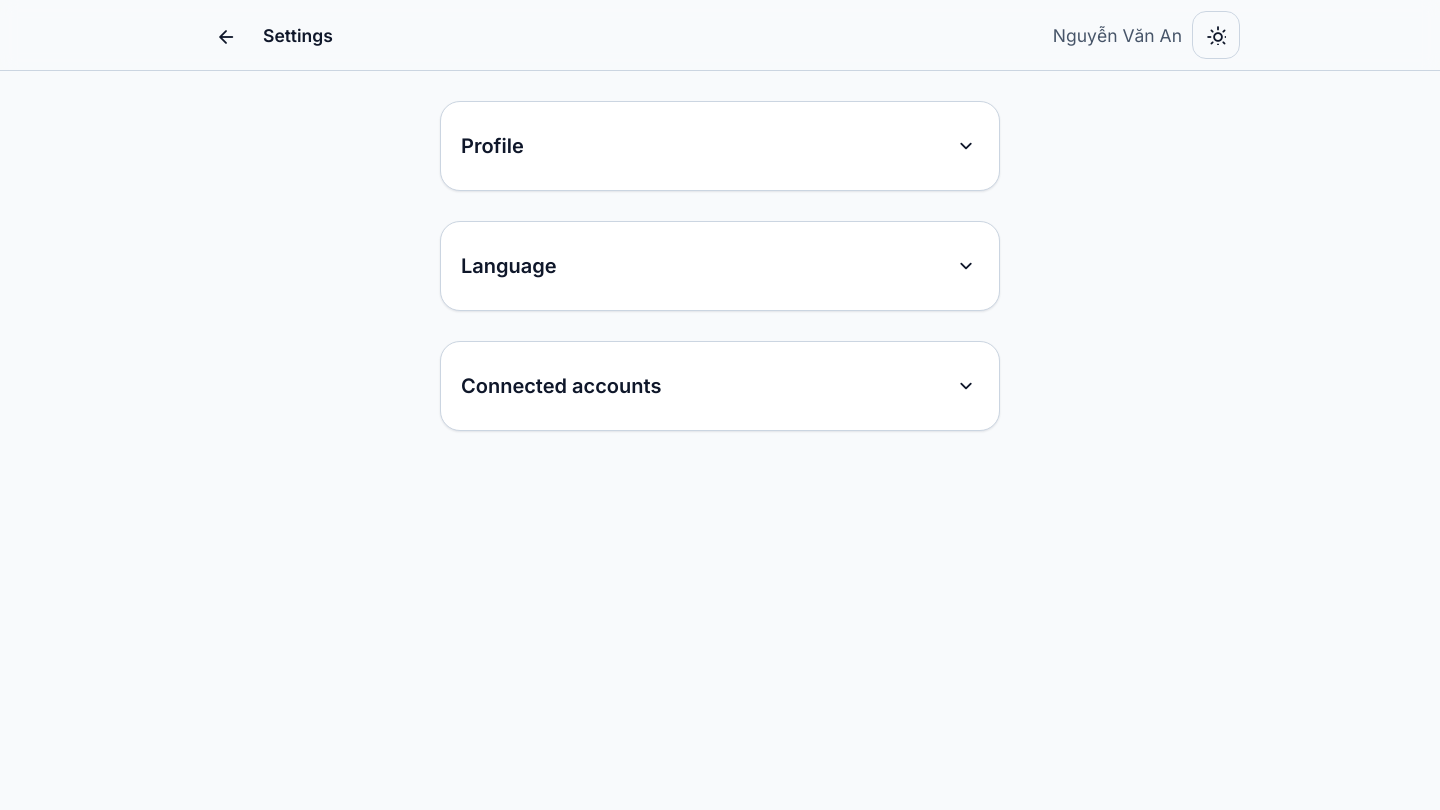
Test: SettingsPage sections › offers shared profile and Google settings without an active membership
Click the button with aria-label "Profile settings" at [492, 146], box [461,122,979,170]
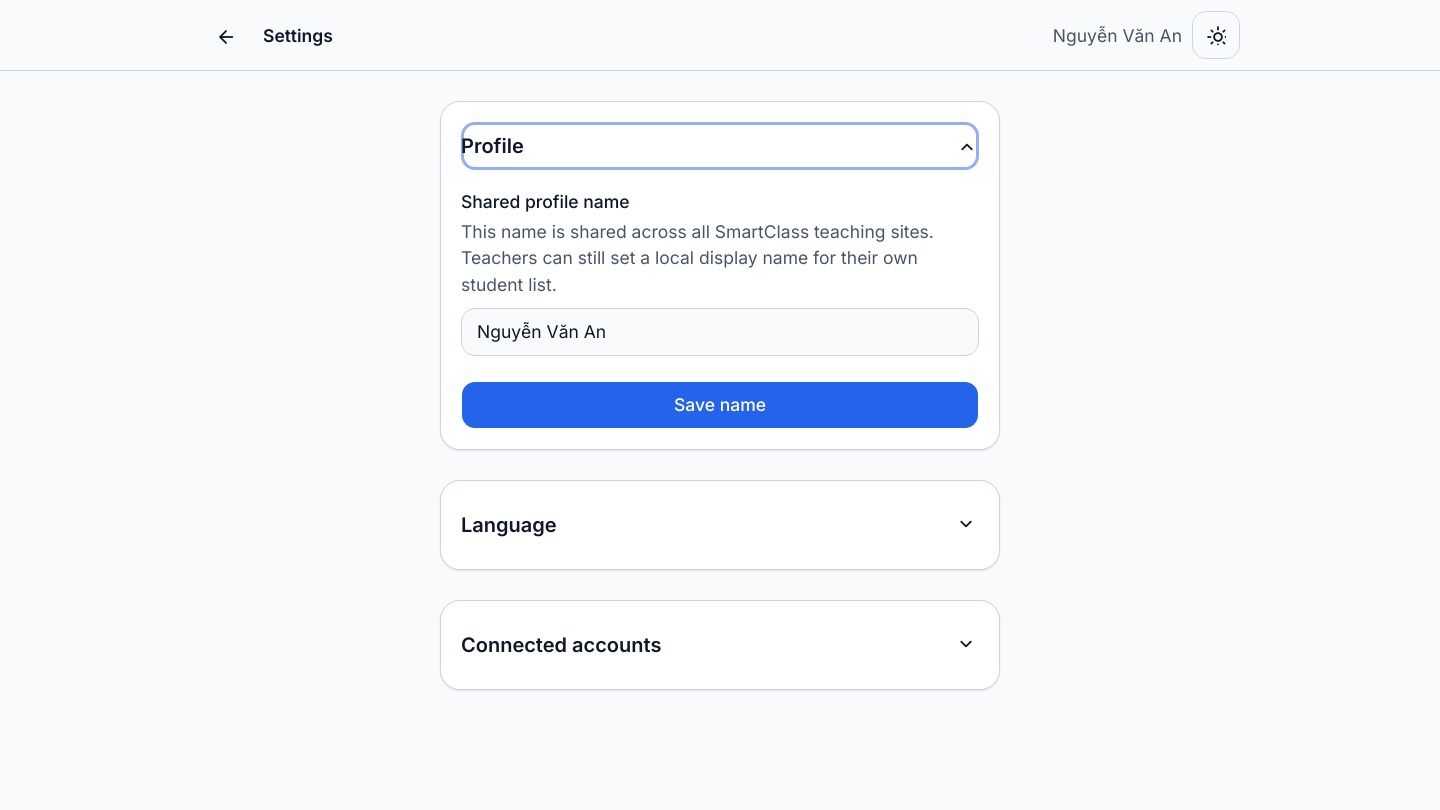
Check: the field labelled "Shared profile name" is shown, box [461,308,979,356]
Click the button with aria-label "Connected accounts settings" at [561, 645], box [461,621,979,669]
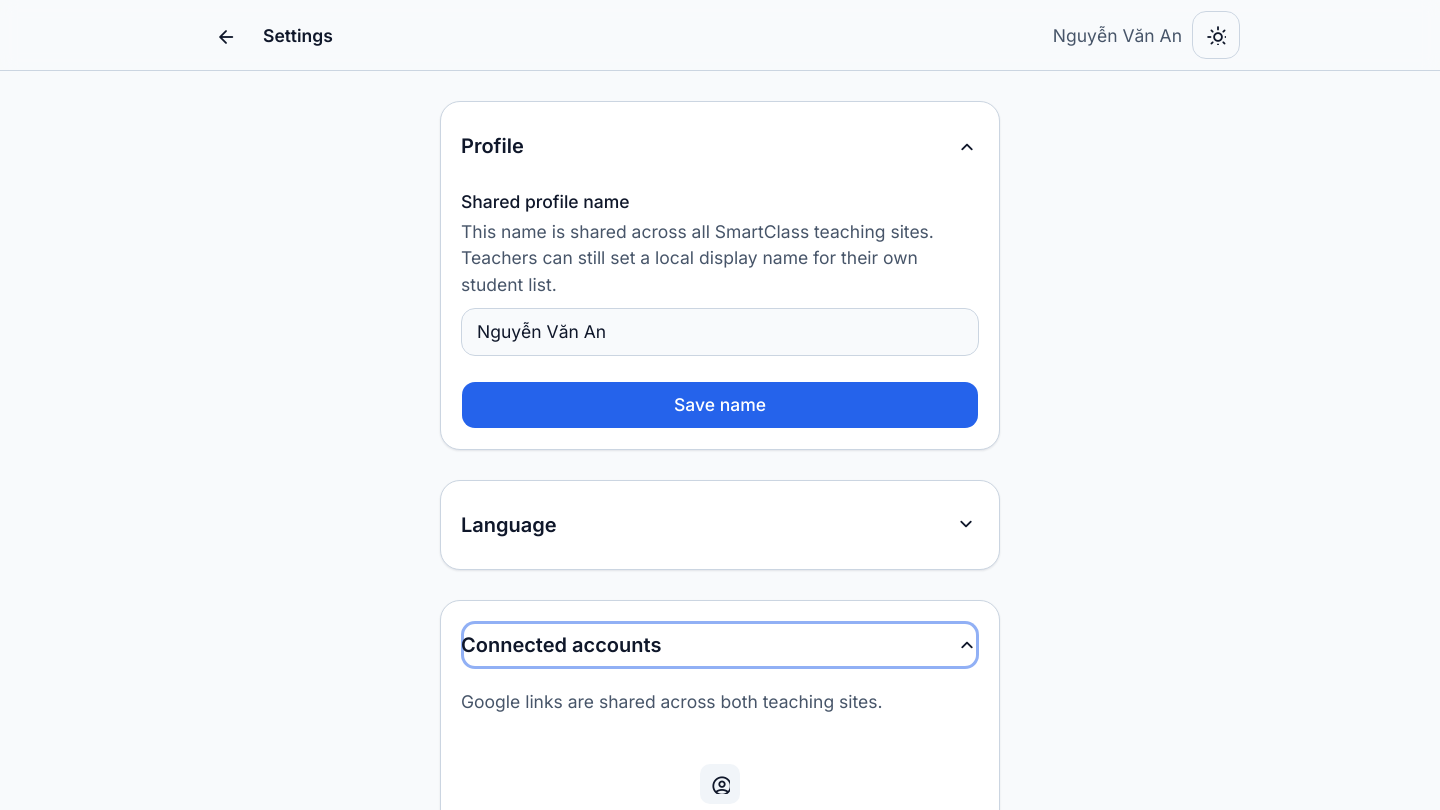
Check: the text "Google links are shared across both teaching sites." is shown, box [461,691,883,712]
